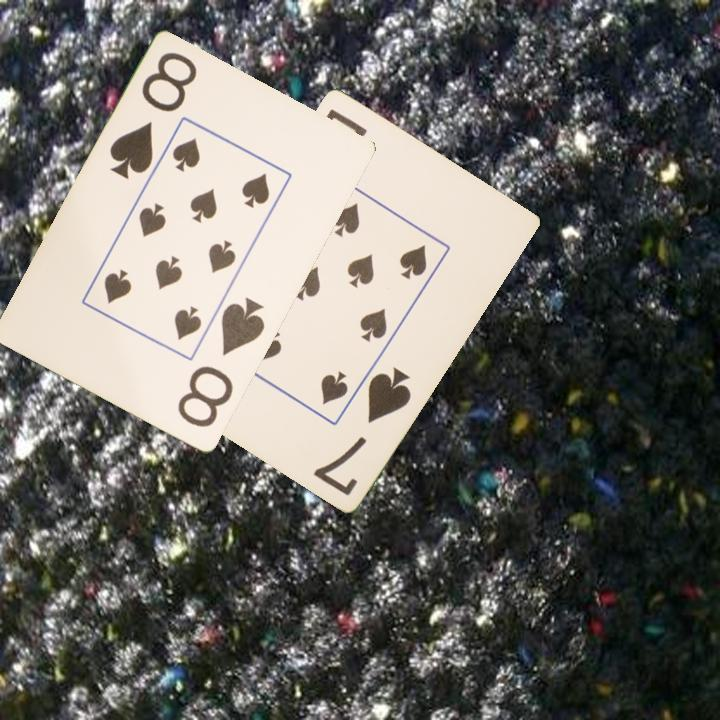7s: (309, 363, 415, 498)
8s: (174, 294, 268, 431), (106, 49, 201, 183)
